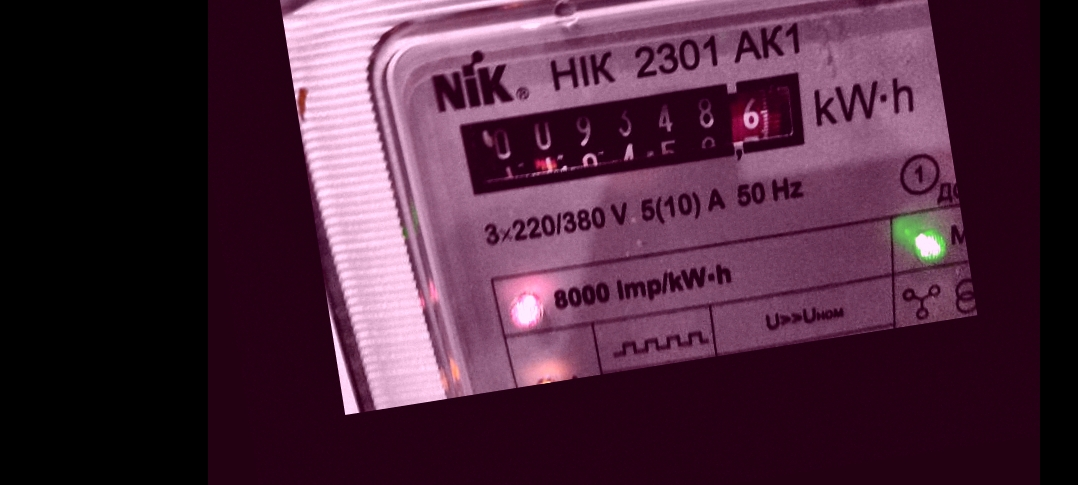0: (529, 115, 556, 154), (489, 124, 514, 162)
3: (611, 104, 637, 139)
4: (650, 97, 677, 137)
6: (738, 94, 765, 131)
8: (693, 93, 718, 130)
9: (572, 110, 595, 147)
screen: (434, 53, 831, 214)
